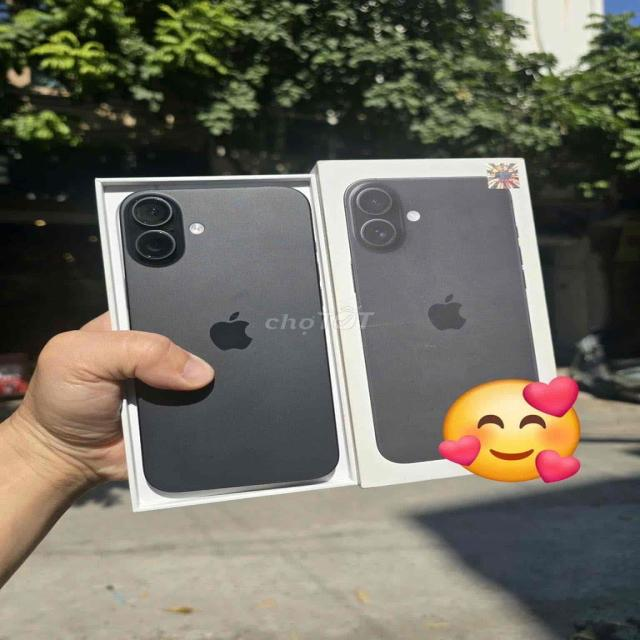gen_16: (98, 179, 344, 509)
